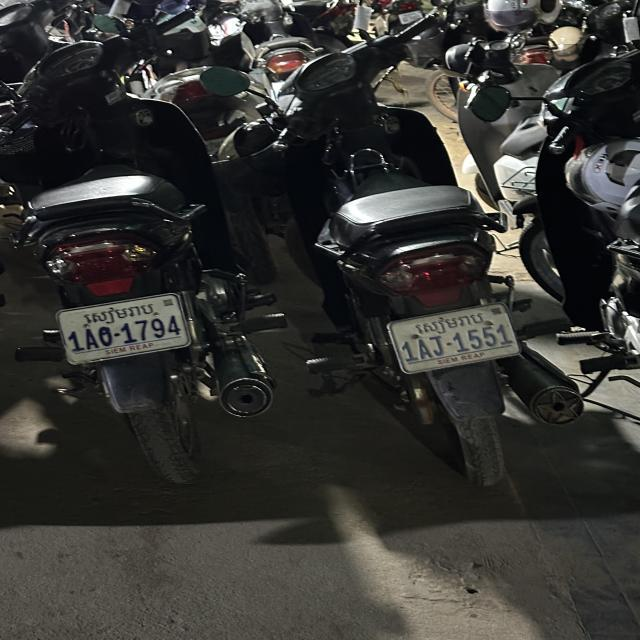Siem_Reap: (412, 310, 484, 334), (82, 302, 155, 324)
